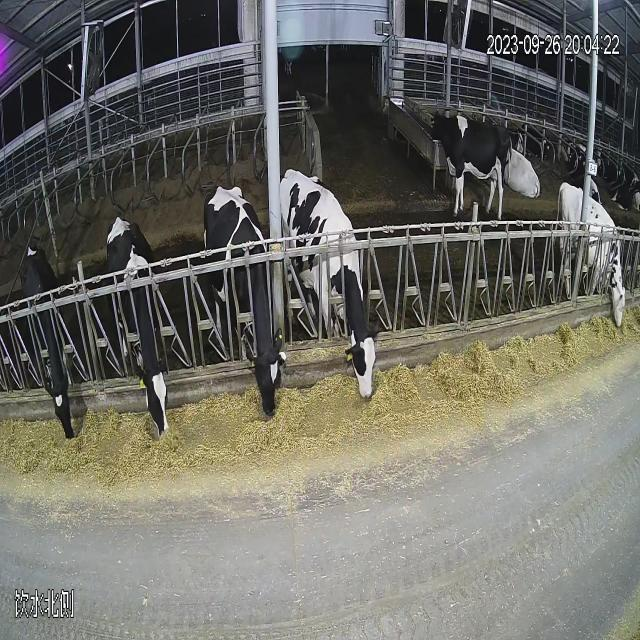drinking: (424, 74, 509, 210)
feeding: (552, 172, 633, 368)
standing: (202, 189, 318, 468), (280, 160, 399, 402), (78, 160, 178, 428), (7, 200, 82, 460)
